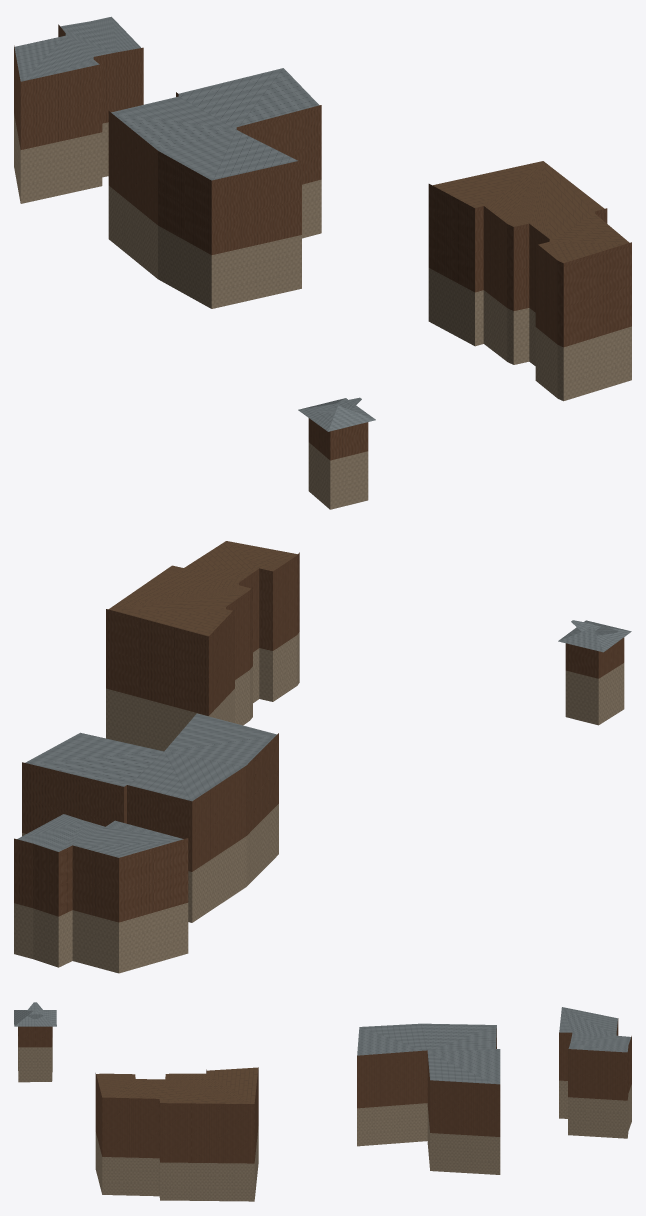
The model's file is bld_c32_-39_450.gltf.
3 renders of one model, top to bottom at view 1: azimuth 30°, elevation 25°; view 2: azimuth 150°, elevation 25°; view 3: azimuth 270°, elevation 25°, orthographic. The views are drawn at different scales.
Parts seen in each view (by area): view 1: bld_c32_-39_450; view 2: bld_c32_-39_450; view 3: bld_c32_-39_450.
Part boxes in pixels (<box>): bld_c32_-39_450: <box>14,16,631,509</box>; bld_c32_-39_450: <box>14,541,631,973</box>; bld_c32_-39_450: <box>14,1002,631,1201</box>.
Bounding box in the file's own units: 38.27 × 13.48 × 75.21.
Materials: 5 (5 with a texture image).
